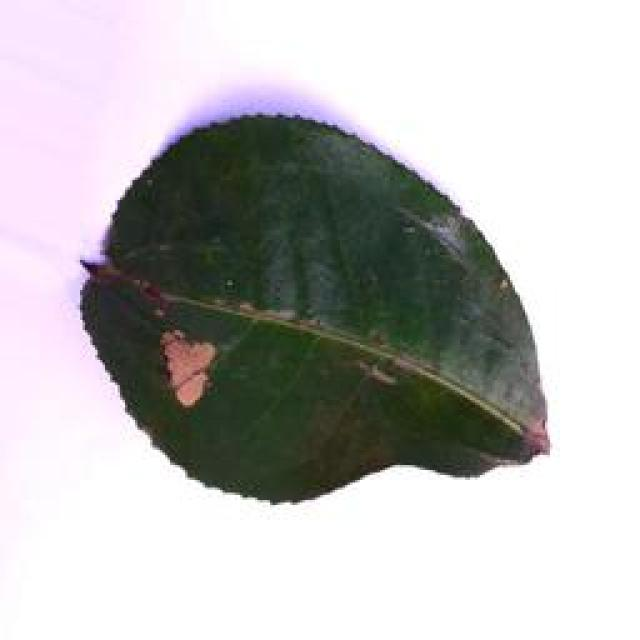Gray Blight: (71, 111, 548, 500)
